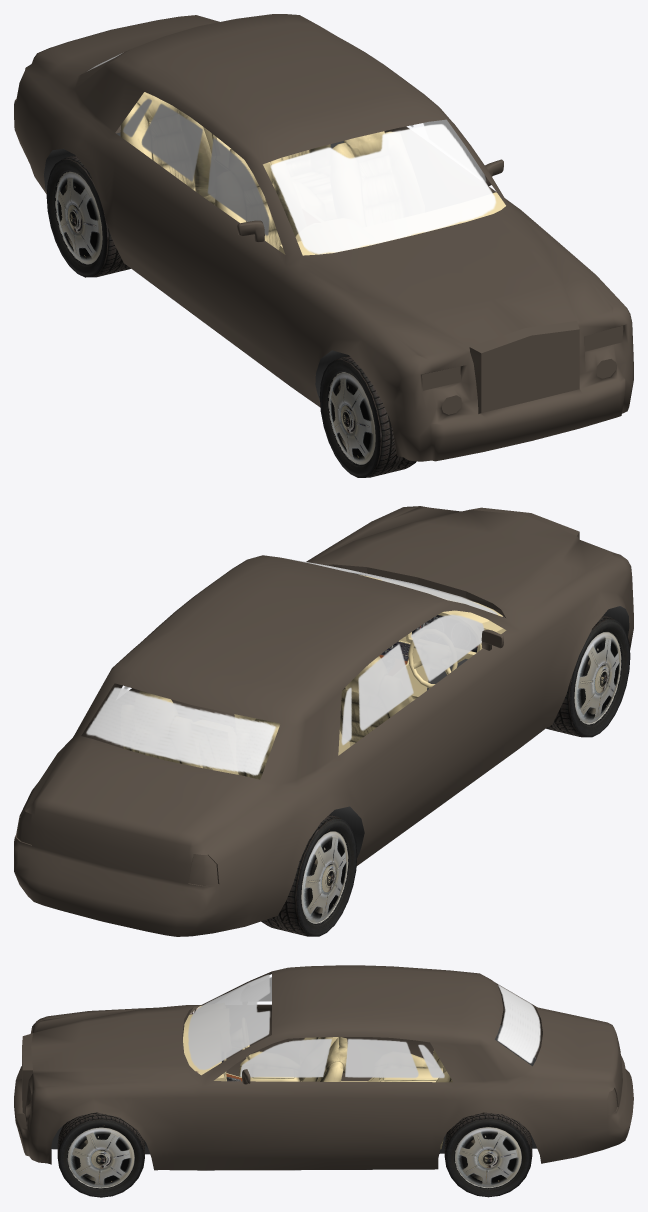
3 renders of one model, top to bottom at view 1: azimuth 30°, elevation 25°; view 2: azimuth 150°, elevation 25°; view 3: azimuth 270°, elevation 25°, orthographic. The views are drawn at different scales.
Parts seen in each view (by area): view 1: CAR-095, CAR-089, CAR-090; view 2: CAR-095, CAR-090, CAR-089; view 3: CAR-095, CAR-093, CAR-092.
Part boxes in pixels (x1,y1,x2,y2): CAR-095: (14,14,633,461); CAR-089: (319,355,416,477); CAR-090: (46,155,130,277); CAR-095: (14,506,633,936); CAR-090: (261,815,357,936); CAR-089: (546,615,630,737); CAR-095: (14,965,633,1170); CAR-093: (444,1112,532,1197); CAR-092: (57,1112,144,1197).
Bounding box in the file's own units: 2.03 × 1.68 × 5.81.
Materials: 6 (4 with a texture image).
